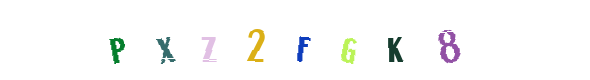2: (234, 0, 314, 80)
8: (387, 0, 467, 80)
F: (254, 0, 334, 80)
G: (262, 0, 342, 80)
K: (281, 0, 361, 80)
P: (130, 0, 210, 80)
X: (216, 0, 296, 80)
Z: (230, 0, 310, 80)
